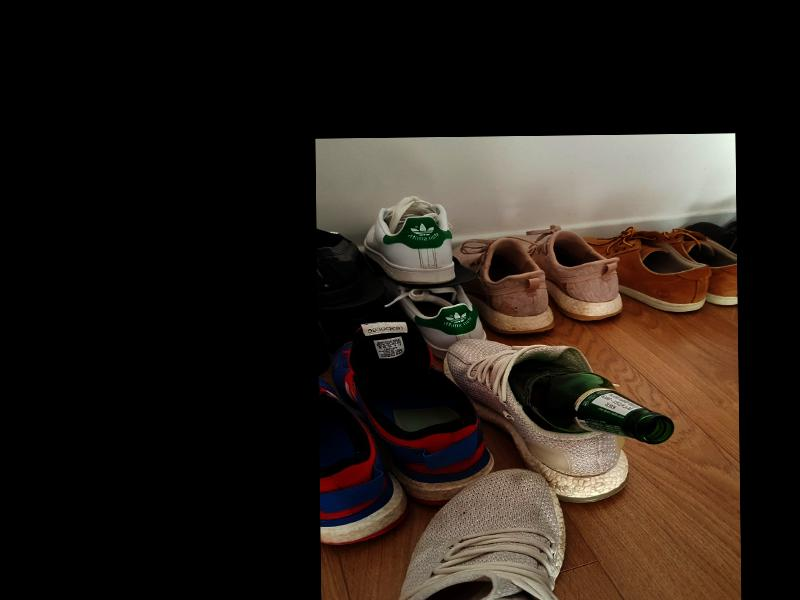Beer: (507, 355, 674, 445)
